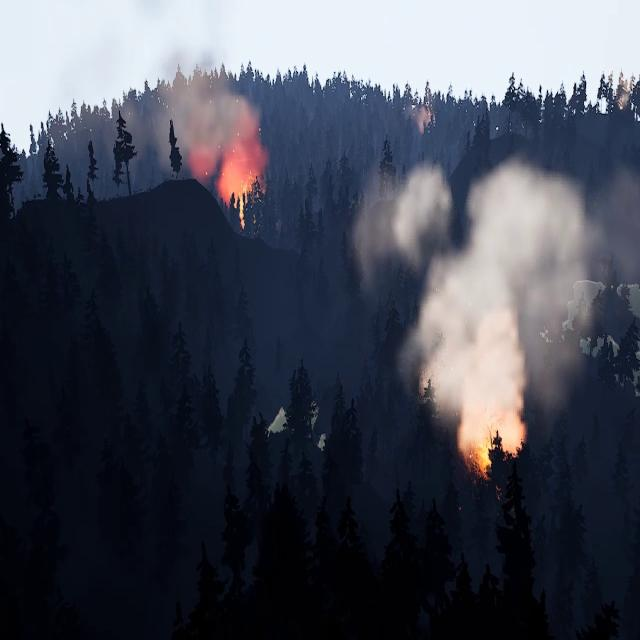fire: (457, 407, 526, 476), (221, 147, 268, 226)
smoke: (348, 149, 624, 434), (123, 39, 261, 199), (416, 104, 434, 135)
